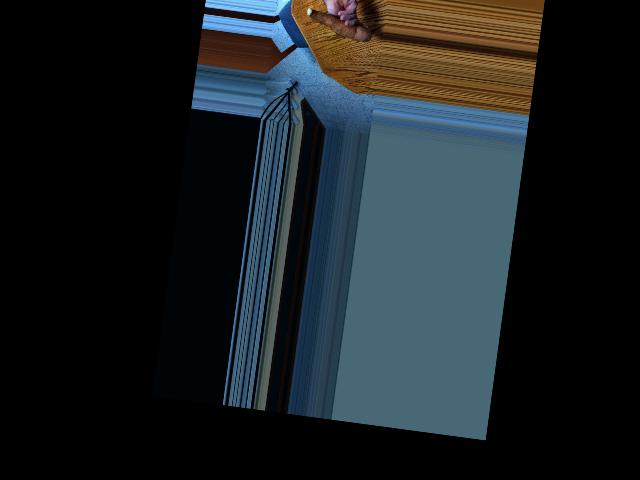sweet_potato: (302, 6, 372, 45)
